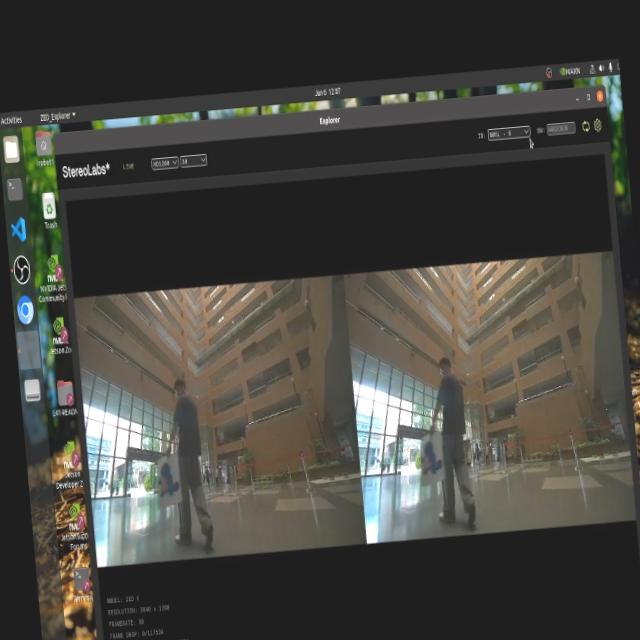blue: (418, 438, 446, 488), (156, 458, 182, 498)
